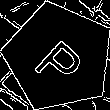P_NE: (27, 25, 90, 88)
